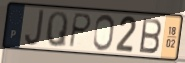2: (114, 14, 138, 55)
B: (138, 17, 163, 55)
J: (24, 9, 46, 48)
O: (92, 14, 116, 53)
P: (67, 12, 93, 50)
Q: (45, 10, 70, 50)
